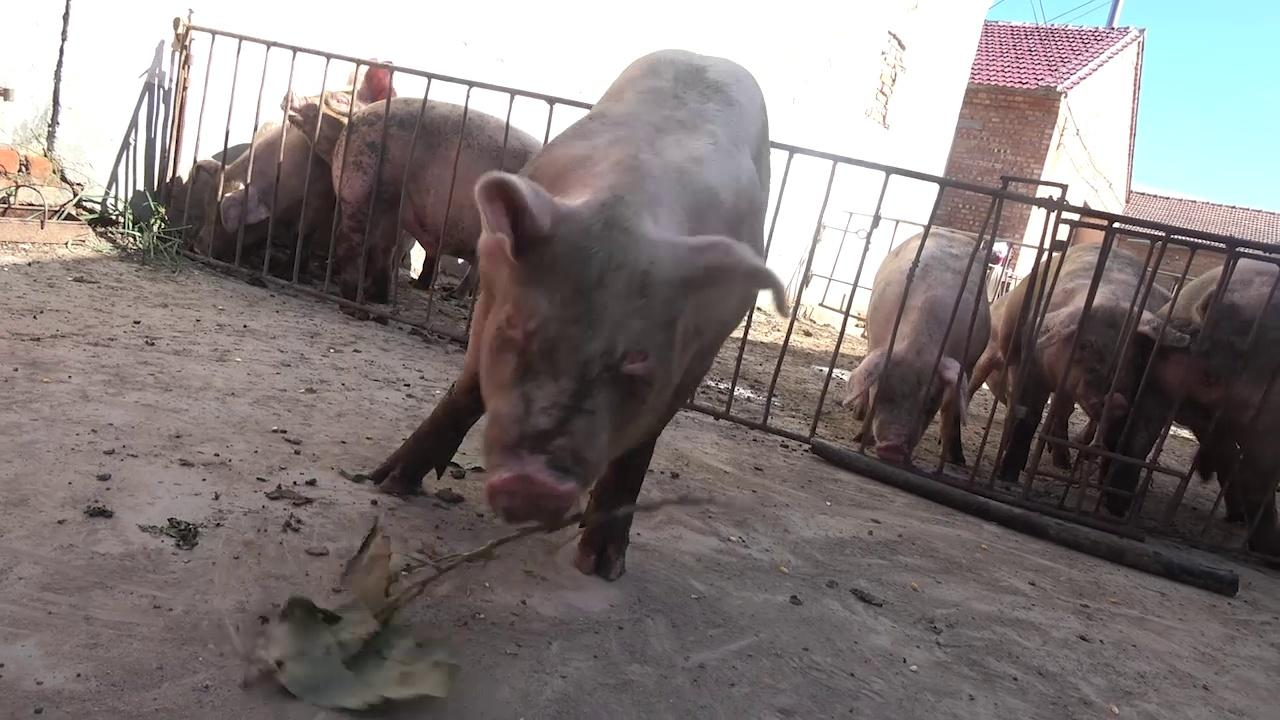Face: (457, 159, 797, 552)
